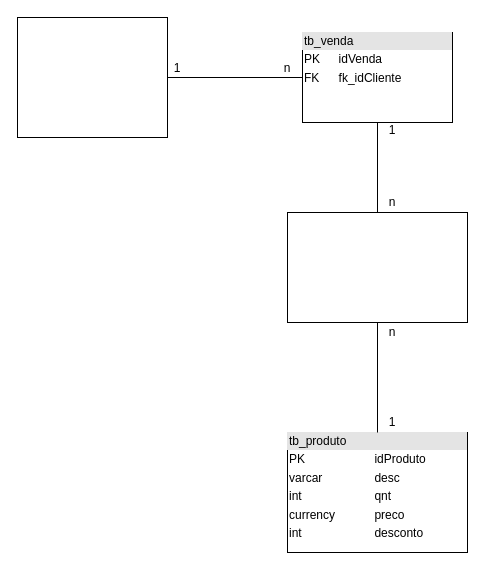
The diagram is 485 pixels wide and 570 high, and some of its shapes have lost their labels. The shapes that lost their labels are listed below. From the top down, each one's box as (x1, y1, x2, y2) in pixels, then its label:
(16, 16, 168, 138): tb_cliente PK idCliente varchar nome int cpf varcar genero varchar endereco
(286, 212, 468, 322): ta_venda_prod PK idVendaProd FK fk_idVenda FK fk_idProd int qntProd int descProd
